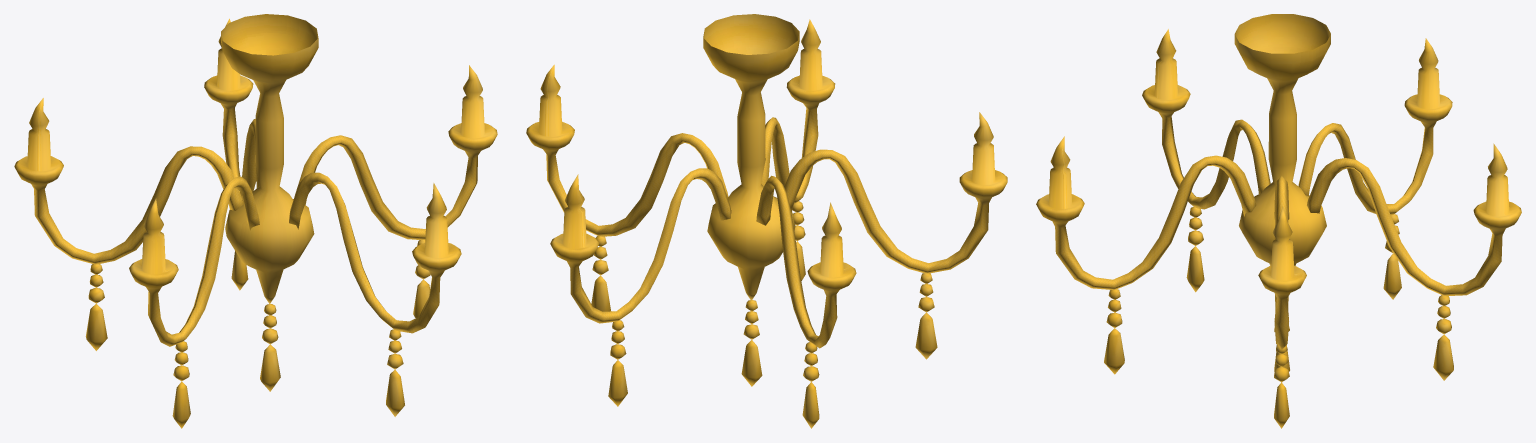
The model's file is chandelier.FBX.
3 views of the same model, side by side, from view 1: azimuth 30°, elevation 25°; view 2: azimuth 150°, elevation 25°; view 3: azimuth 270°, elevation 25° (orthographic). The views are drawn at different scales.
Visible parts, largest first — view 1: Sphere001; view 2: Sphere001; view 3: Sphere001.
Boxes of the visible parts, x1,y1,x2,y2 form: Sphere001: (14,14,497,428); Sphere001: (526,14,1007,428); Sphere001: (1036,14,1521,428).
Bounding box in the file's own units: 160 × 129 × 163.
